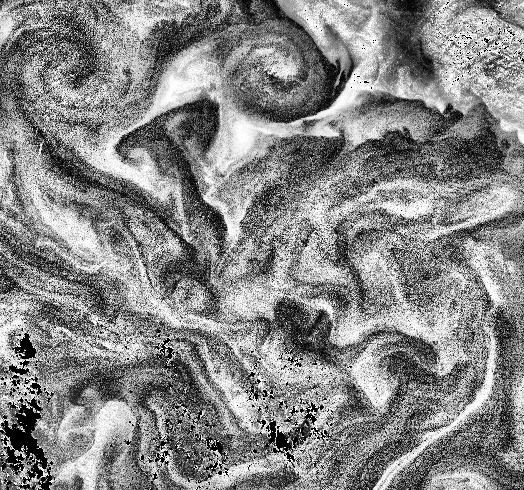AE: (224, 20, 330, 125), (24, 21, 124, 114)
